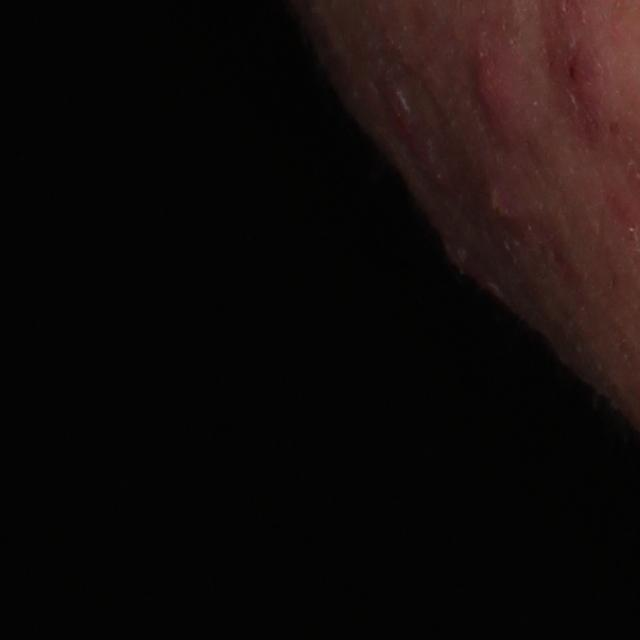papule: (548, 34, 611, 119), (469, 55, 517, 123)
pustule: (484, 179, 524, 227)
